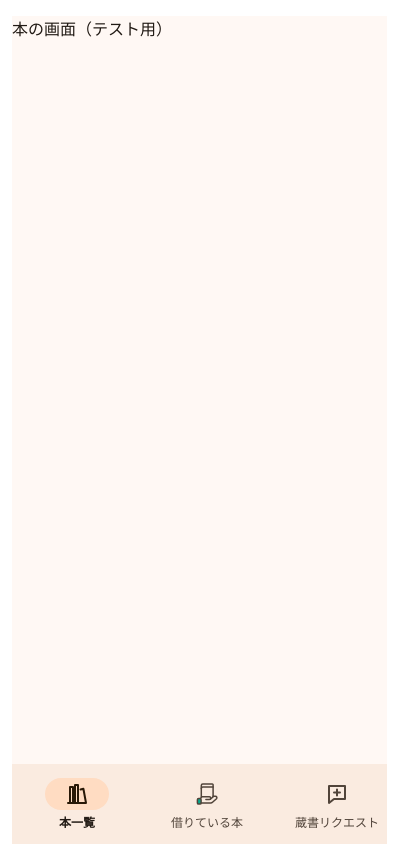
Test case: AppShell › RL-15: メニューで別の画面に移動すると、main の中身だけが変わる
Click the link "借りている本" at (207, 806), box top-left (171, 782), bottom-right (243, 830)
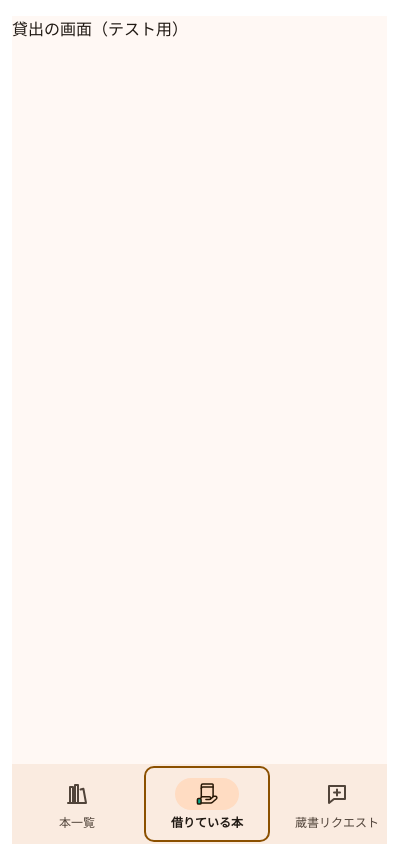
Result: the element showing "貸出の画面（テスト用）" is shown at top-left (12, 16), bottom-right (188, 40)
